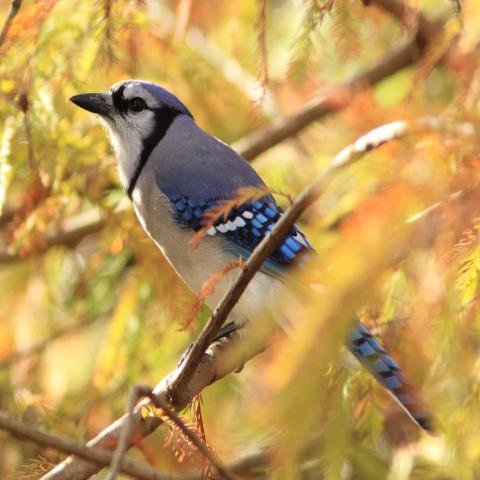bird: (65, 76, 446, 442)
